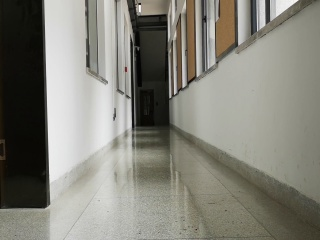room: (2, 2, 55, 210)
